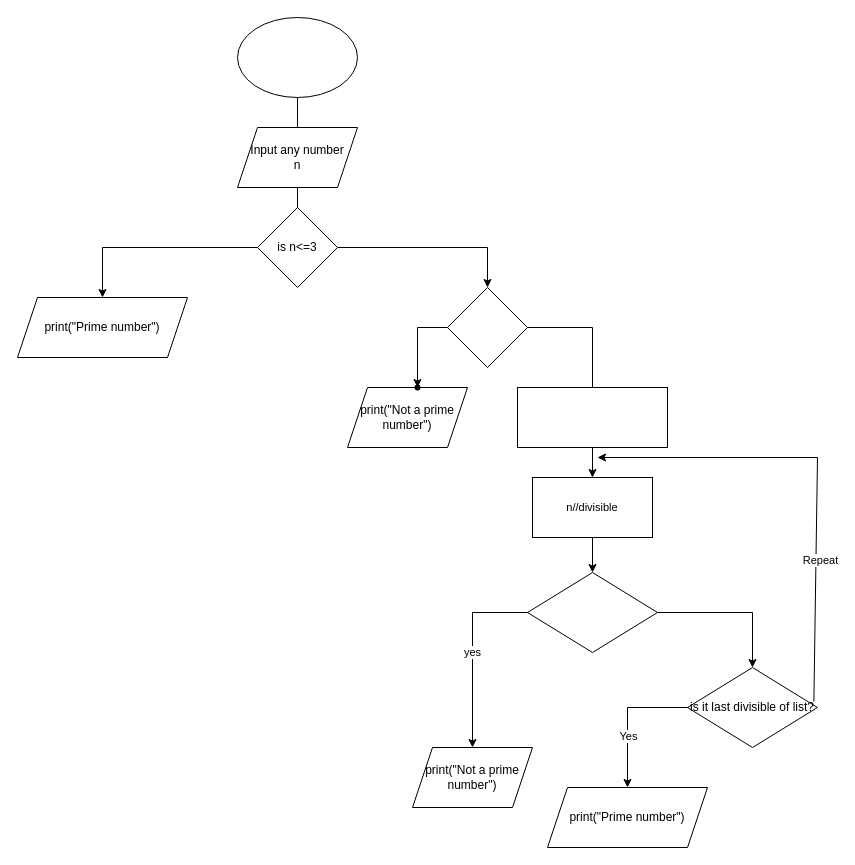
Image size: 855x865. Some labels were removed from this diagram. The shapes that lost their labels are listed below. From the top down, each one's centre as x and y in pixels, then its label:
At [297,57]: "Start".
At [487,327]: "is n//2==0 or n//3==0".
At [592,417]: "create list of divisibles ldiv = range(5, int ( n ** 0.5 )+1,6)".
At [592,612]: "if n//divisible==0 or n//(divisible+2)==0".
